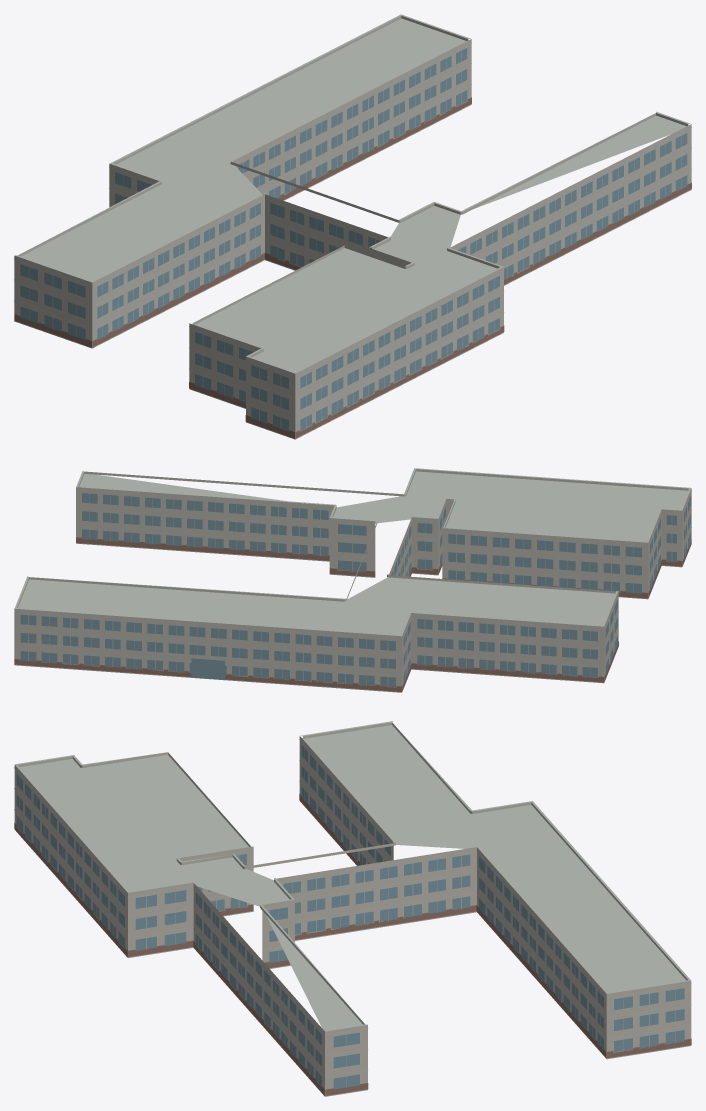
File: public-9b26a7e8-44e8-4f28-b91f-80d0b79b01c3.glb
The picture shows the model from 3 angles, top to bottom: view 1: azimuth 30°, elevation 25°; view 2: azimuth 150°, elevation 25°; view 3: azimuth 270°, elevation 25°; orthographic projection. The views are drawn at different scales.
Parts seen in each view (by area): view 1: public-9b26a7e8-44e8-4f28-b91f-80d0b79b01c3; view 2: public-9b26a7e8-44e8-4f28-b91f-80d0b79b01c3; view 3: public-9b26a7e8-44e8-4f28-b91f-80d0b79b01c3.
Boxes of the visible parts, x1,y1,x2,y2 form: public-9b26a7e8-44e8-4f28-b91f-80d0b79b01c3: (14,14,691,439); public-9b26a7e8-44e8-4f28-b91f-80d0b79b01c3: (14,468,691,692); public-9b26a7e8-44e8-4f28-b91f-80d0b79b01c3: (14,721,691,1096).
Bounding box in the file's own units: 93.41 × 9.15 × 86.06.
